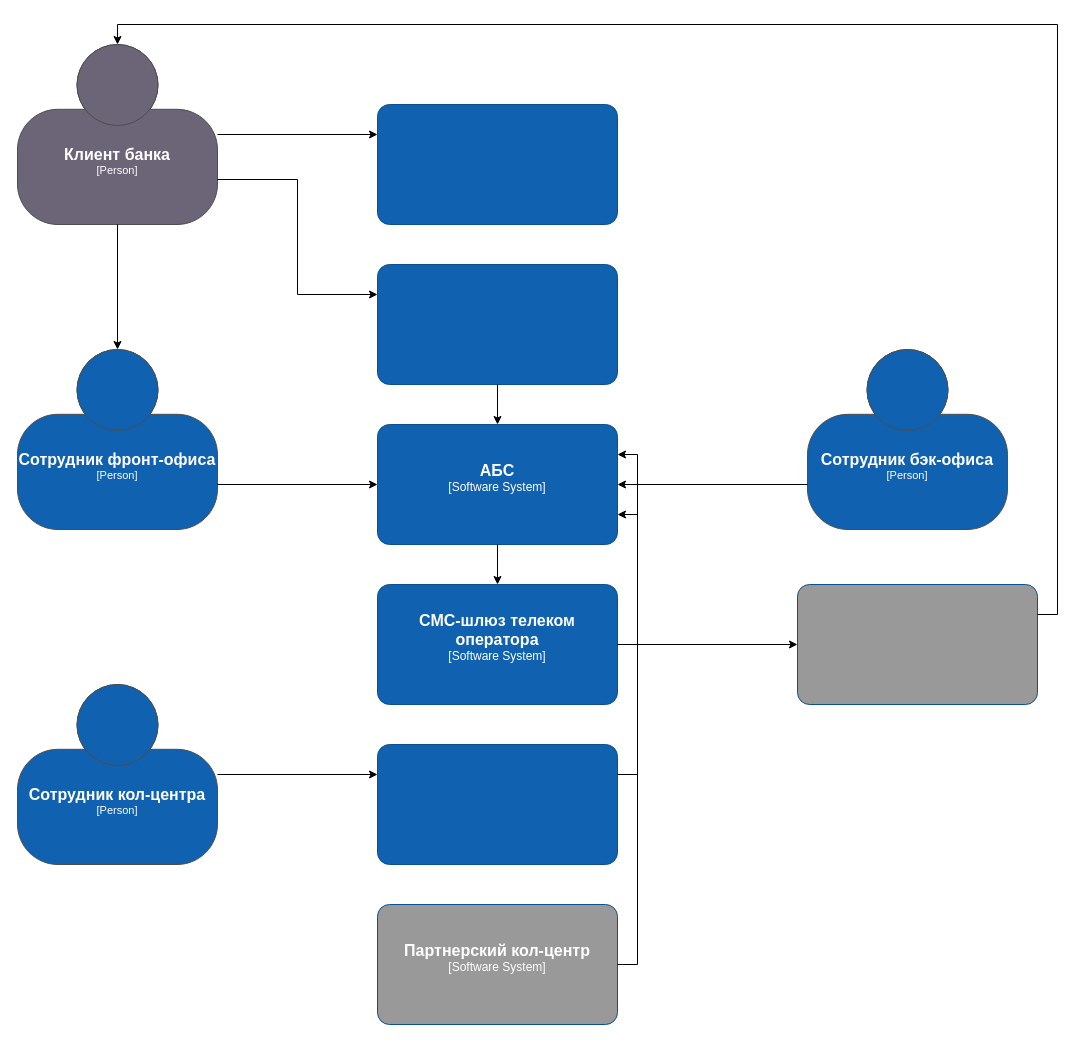
Some shapes in this 1083 by 1042 pixel diagram are drawn without their labels. The centre of each missing label's shape, as x and y in pixels:
"Интернет-банк [Software System]" goes at [497,324].
"Кол-центр [Software System]" goes at [497,804].
"Сайт [Software System]" goes at [497,164].
"Телеком оператор [Software System]" goes at [917,644].
